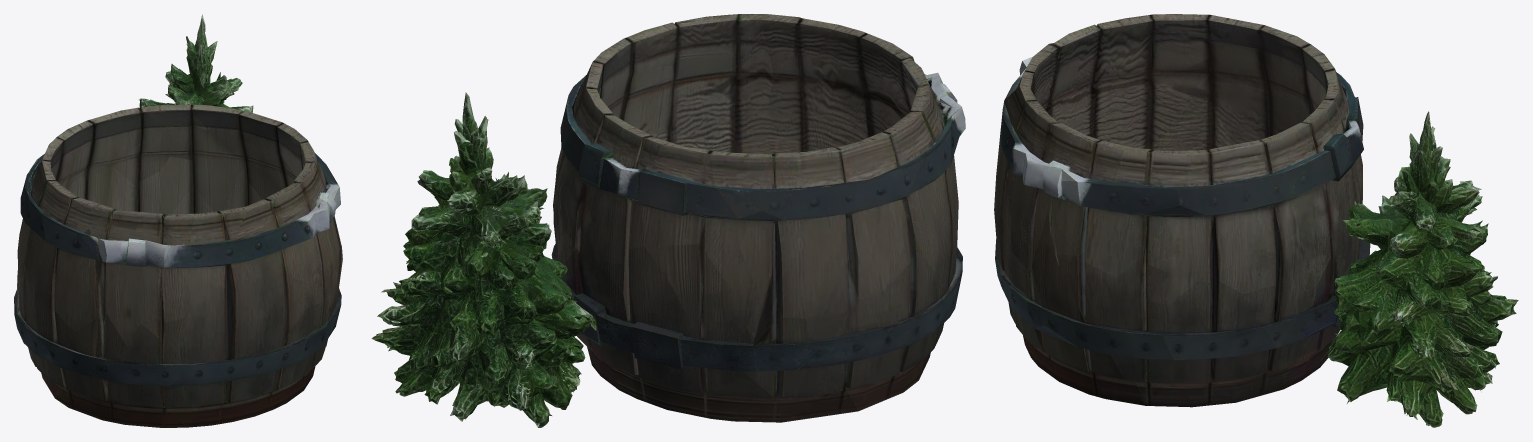
Rendered from wooden_barrel.glb.
3 views of the same model, side by side, from view 1: azimuth 30°, elevation 25°; view 2: azimuth 150°, elevation 25°; view 3: azimuth 270°, elevation 25° (orthographic). The views are drawn at different scales.
Size of the model in its own units: 1.68 by 1.19 by 1.88.
Materials: 1 (1 with a texture image).
